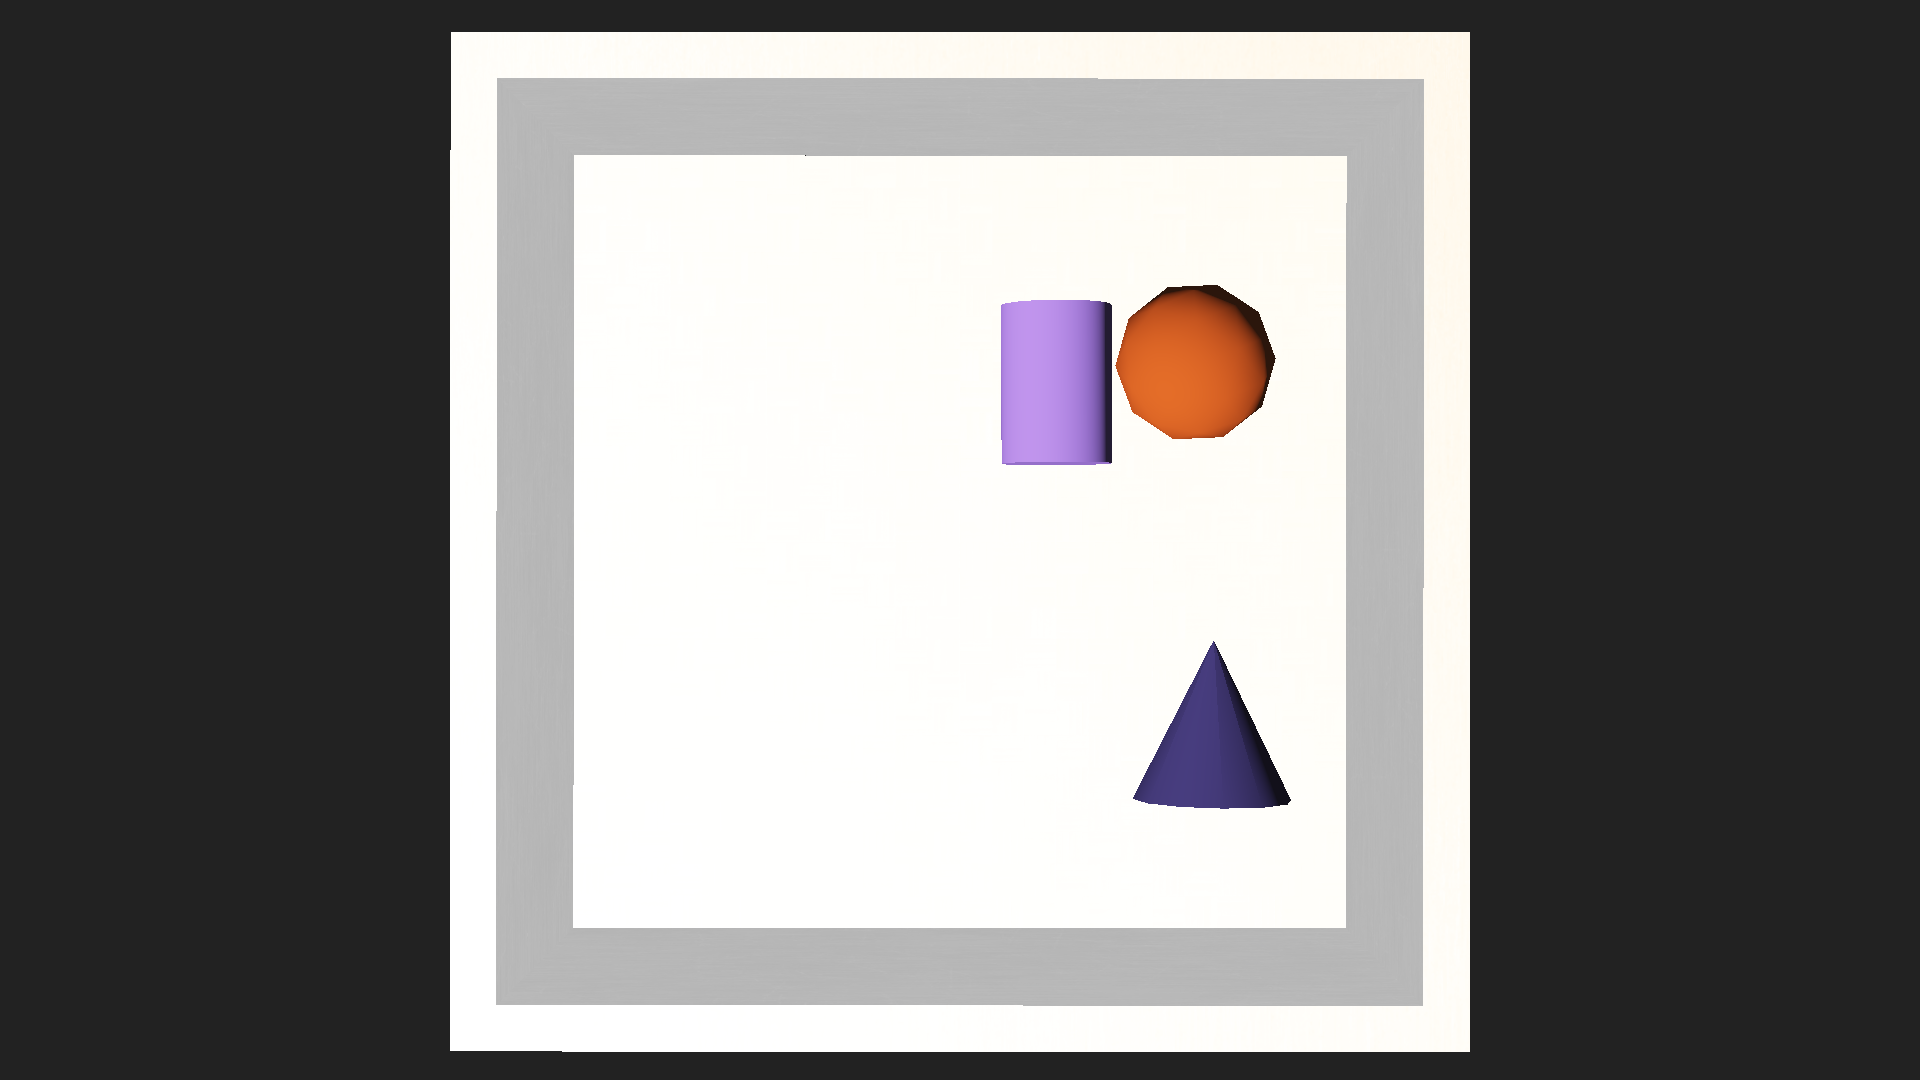cone: (1000, 299, 1116, 465)
cylinder: (1131, 636, 1299, 808)
sphere: (1114, 282, 1274, 442)
